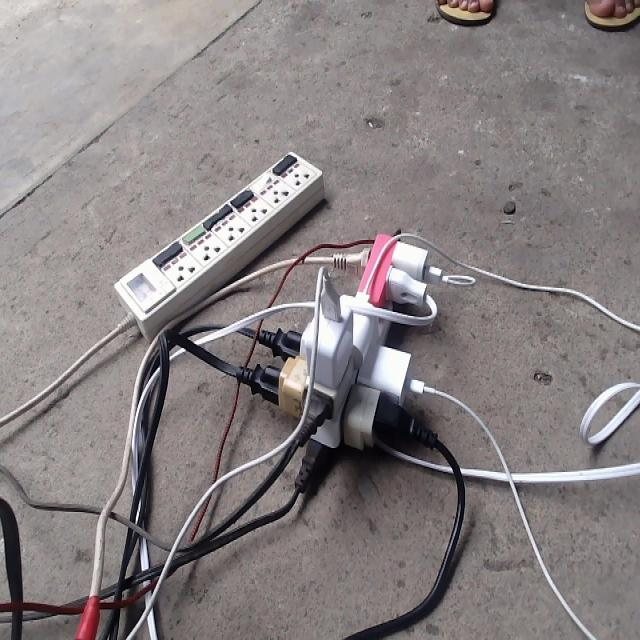-: (239, 231, 456, 493)
